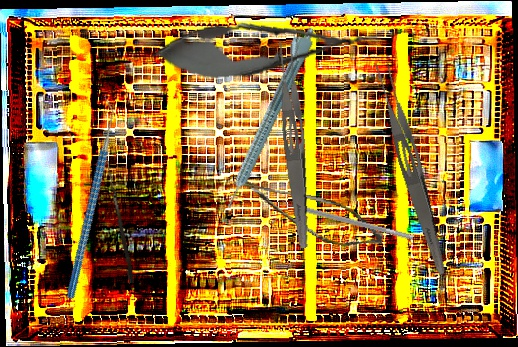Chopper: (2, 93, 175, 301)
Dressing Forceps: (369, 58, 457, 278), (273, 40, 318, 249)
Handpiece: (214, 22, 319, 211)
Hook Surgical: (101, 161, 137, 284)
Micro Scissor: (149, 8, 387, 86), (223, 174, 390, 253)
Spatula Surgical: (280, 196, 416, 241)
